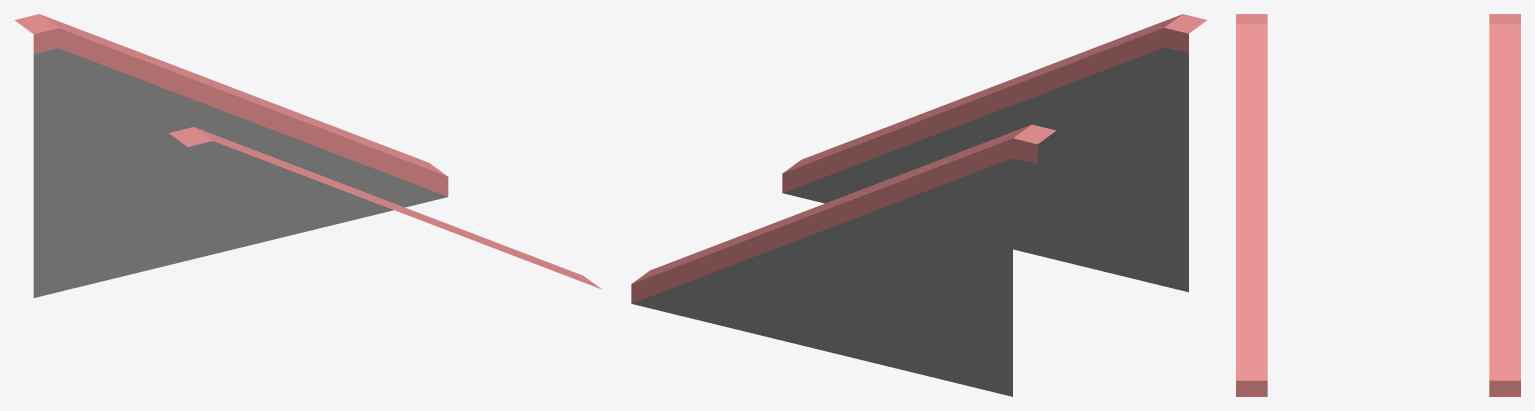
Rendered from S_Envi_Umeda_hall_48a.gltf.
The picture shows the model from 3 angles, left to right: view 1: azimuth 30°, elevation 25°; view 2: azimuth 150°, elevation 25°; view 3: azimuth 270°, elevation 25°; orthographic projection. The views are drawn at different scales.
Visible parts, largest first — view 1: S_Envi_Umeda_hall_48a; view 2: S_Envi_Umeda_hall_48a; view 3: S_Envi_Umeda_hall_48a.
Part boxes in pixels (<box>): S_Envi_Umeda_hall_48a: <box>14,14,601,297</box>; S_Envi_Umeda_hall_48a: <box>631,14,1206,396</box>; S_Envi_Umeda_hall_48a: <box>1236,14,1520,396</box>.
Bounding box in the file's own units: 3.3 × 2.01 × 2.39.
